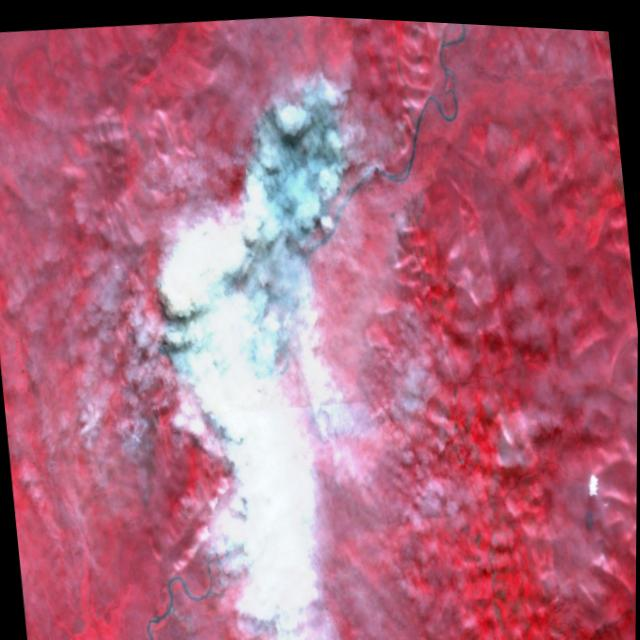fire: (131, 50, 377, 337)
